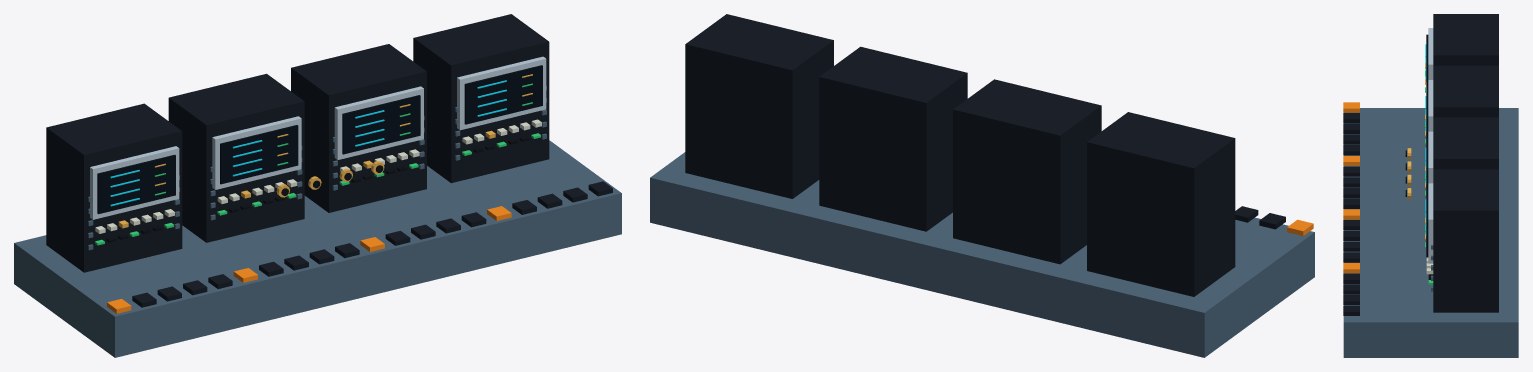
Rendered from 05_L92_SamplingMissionControlConsole.fbx.
3 views of the same model, side by side, from view 1: azimuth 30°, elevation 25°; view 2: azimuth 150°, elevation 25°; view 3: azimuth 270°, elevation 25° (orthographic). The views are drawn at different scales.
Parts seen in each view (by area): view 1: L92_SamplingMissionControlConsole; view 2: L92_SamplingMissionControlConsole; view 3: L92_SamplingMissionControlConsole.
Boxes of the visible parts, x1,y1,x2,y2 form: L92_SamplingMissionControlConsole: (14, 14, 621, 357); L92_SamplingMissionControlConsole: (650, 14, 1314, 357); L92_SamplingMissionControlConsole: (1343, 14, 1518, 357).
Size of the model in its own units: 580 by 175 by 200.
